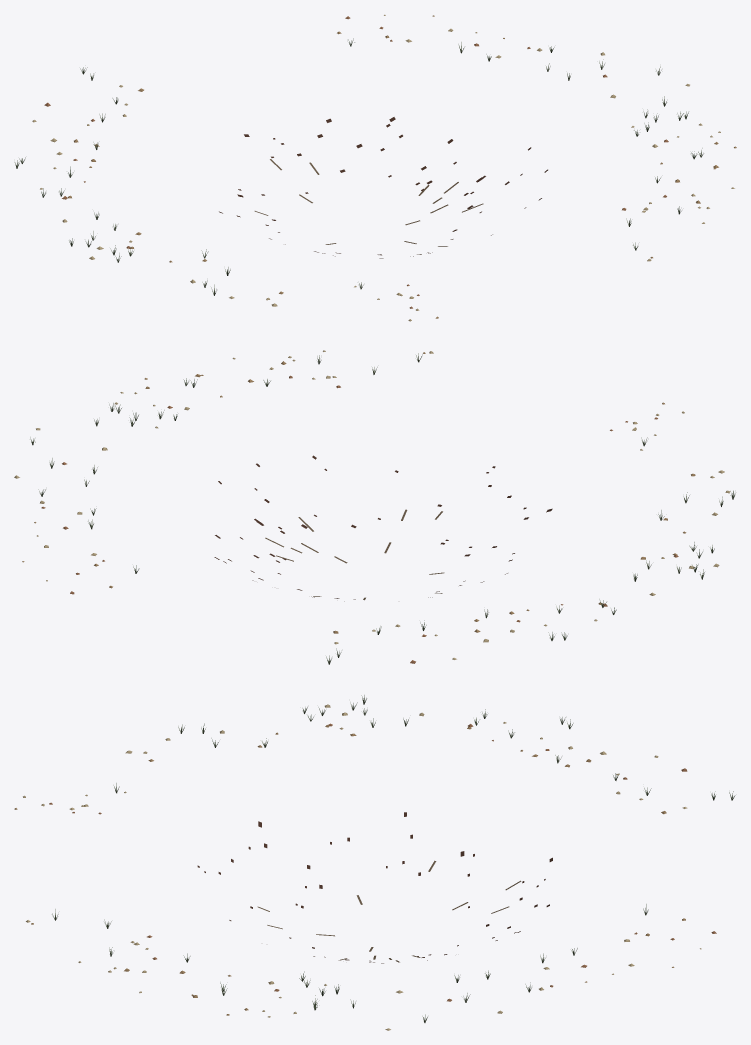
The model's file is crater_event_detail2.glb.
The picture shows the model from 3 angles, top to bottom: view 1: azimuth 30°, elevation 25°; view 2: azimuth 150°, elevation 25°; view 3: azimuth 270°, elevation 25°; orthographic projection. The views are drawn at different scales.
Parts seen in each view (by area): view 1: Detail2; view 2: Detail2; view 3: Detail2.
Part boxes in pixels (left/top/right/bottom): Detail2: left=14, top=14, right=736, bottom=321; Detail2: left=14, top=350, right=735, bottom=664; Detail2: left=14, top=695, right=735, bottom=1030.
Bounding box in the file's own units: 80.86 × 9.2 × 75.48.
